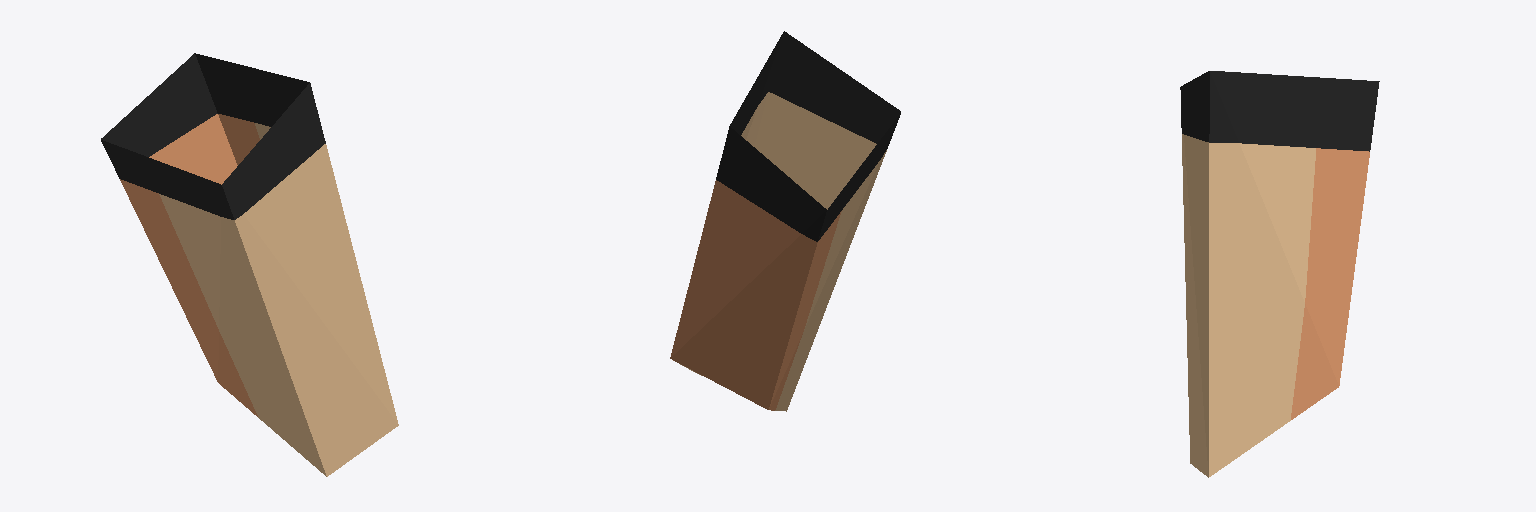
The picture shows the model from 3 angles: view 1: azimuth 30°, elevation 25°; view 2: azimuth 150°, elevation 25°; view 3: azimuth 270°, elevation 25°; orthographic projection.
Parts seen in each view (by area): view 1: LeftUpLeg_Legs.004; view 2: LeftUpLeg_Legs.004; view 3: LeftUpLeg_Legs.004.
Part boxes in pixels (bbox=[...]): LeftUpLeg_Legs.004: bbox=[101, 53, 398, 476]; LeftUpLeg_Legs.004: bbox=[670, 31, 900, 411]; LeftUpLeg_Legs.004: bbox=[1180, 71, 1379, 477].
Bounding box in the file's own units: 0.7577 × 1.31 × 0.6085.
1 materials, 1 textured.